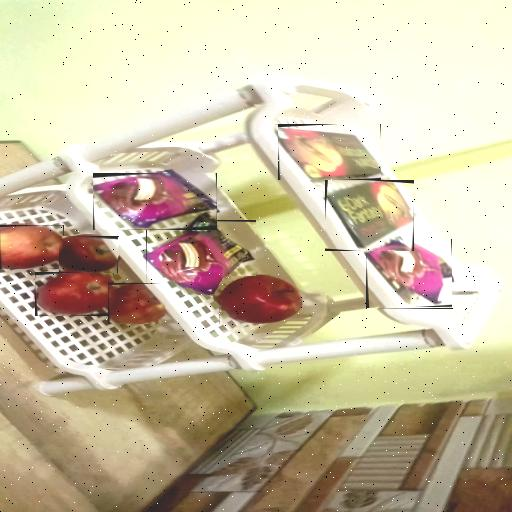Apple: (219, 276, 303, 324), (35, 272, 114, 316), (0, 225, 64, 269), (108, 283, 165, 324), (60, 236, 120, 273)
Choco Fills: (325, 180, 414, 251), (278, 124, 381, 180)
Choco Pie: (146, 220, 256, 295), (93, 173, 217, 230), (366, 240, 452, 310)
